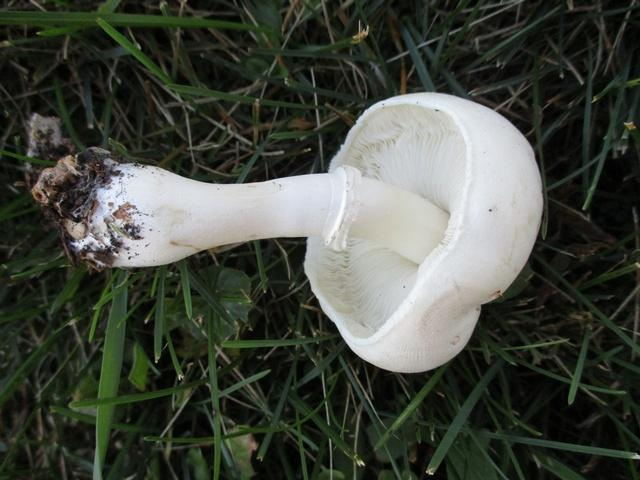Non-edible Mushroom: (44, 90, 544, 379)
